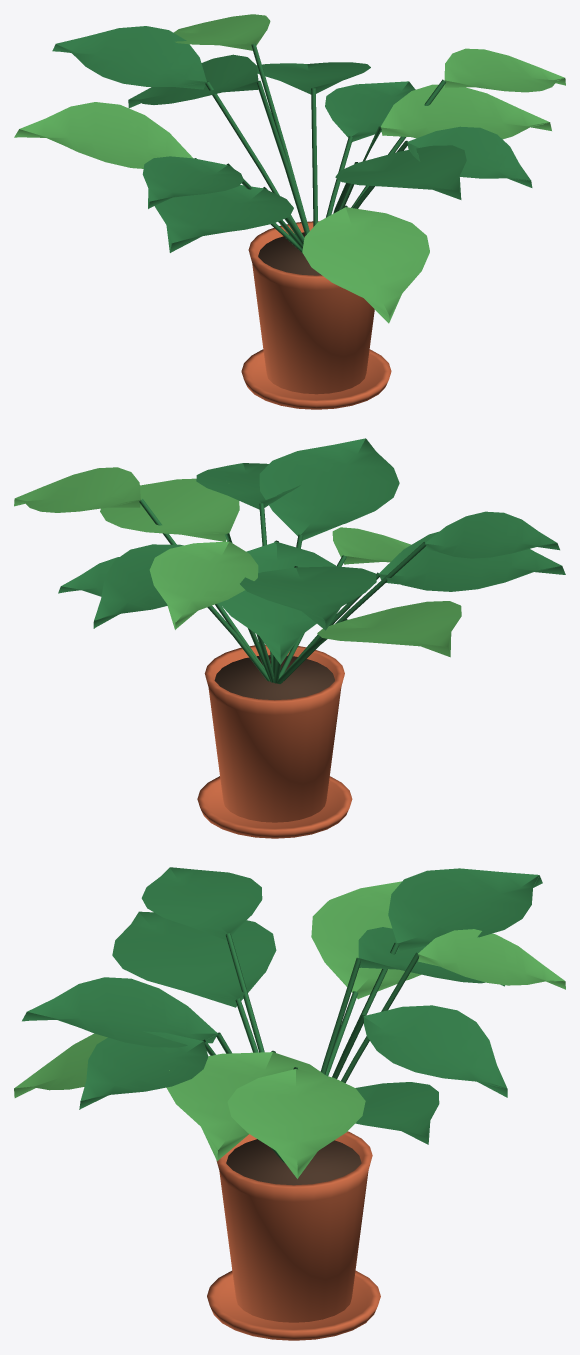
Rendered from RmPlant.fbx.
3 renders of one model, top to bottom at view 1: azimuth 30°, elevation 25°; view 2: azimuth 150°, elevation 25°; view 3: azimuth 270°, elevation 25°, orthographic. The views are drawn at different scales.
Parts seen in each view (by area): view 1: RmPlantBody; view 2: RmPlantBody; view 3: RmPlantBody.
Boxes of the visible parts, x1=… form: RmPlantBody: x1=14, y1=14, x2=565, y2=409; RmPlantBody: x1=14, y1=438, x2=565, y2=838; RmPlantBody: x1=14, y1=867, x2=565, y2=1340.
Bounding box in the file's own units: 1.57 × 0.9248 × 1.33.
